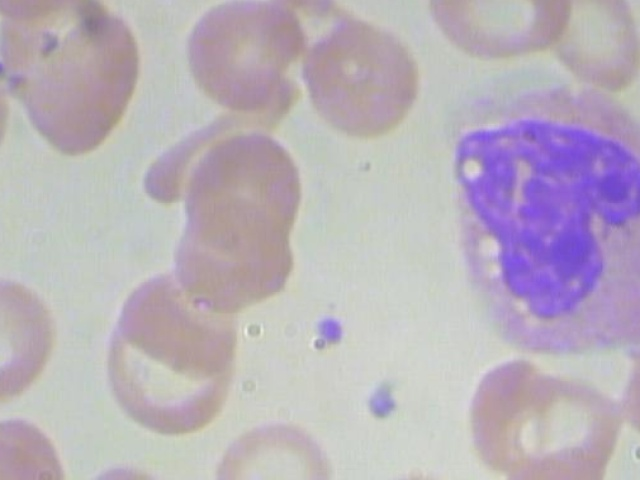Platelets: (361, 380, 409, 429), (306, 311, 355, 352)
RBC: (15, 6, 155, 168), (95, 308, 243, 438), (165, 189, 302, 310), (171, 130, 308, 250), (443, 349, 564, 480), (299, 11, 421, 140), (177, 0, 315, 111), (204, 398, 341, 480), (423, 0, 581, 65), (536, 0, 640, 92), (618, 313, 640, 461)
WBC: (428, 81, 640, 370)
